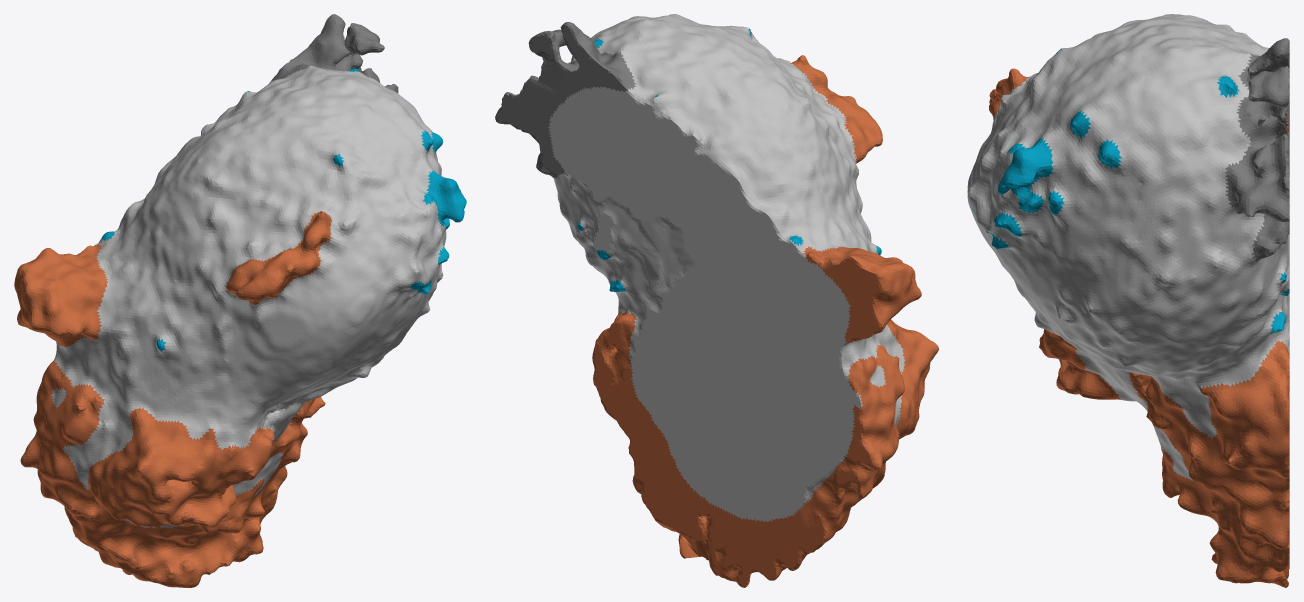
3 views of the same model, side by side, from view 1: azimuth 30°, elevation 25°; view 2: azimuth 150°, elevation 25°; view 3: azimuth 270°, elevation 25° (orthographic). The views are drawn at different scales.
Bounding box in the file's own units: 123 × 153 × 70.18.
